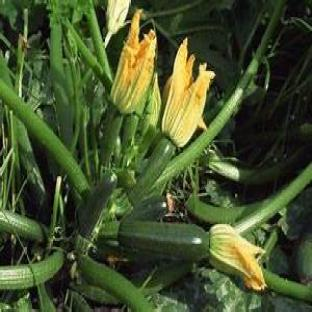Zucchini: (118, 221, 209, 261), (127, 136, 175, 205), (78, 173, 116, 239), (0, 252, 64, 290), (124, 197, 166, 220)
